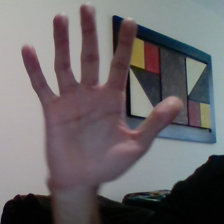left: (13, 4, 179, 191)
